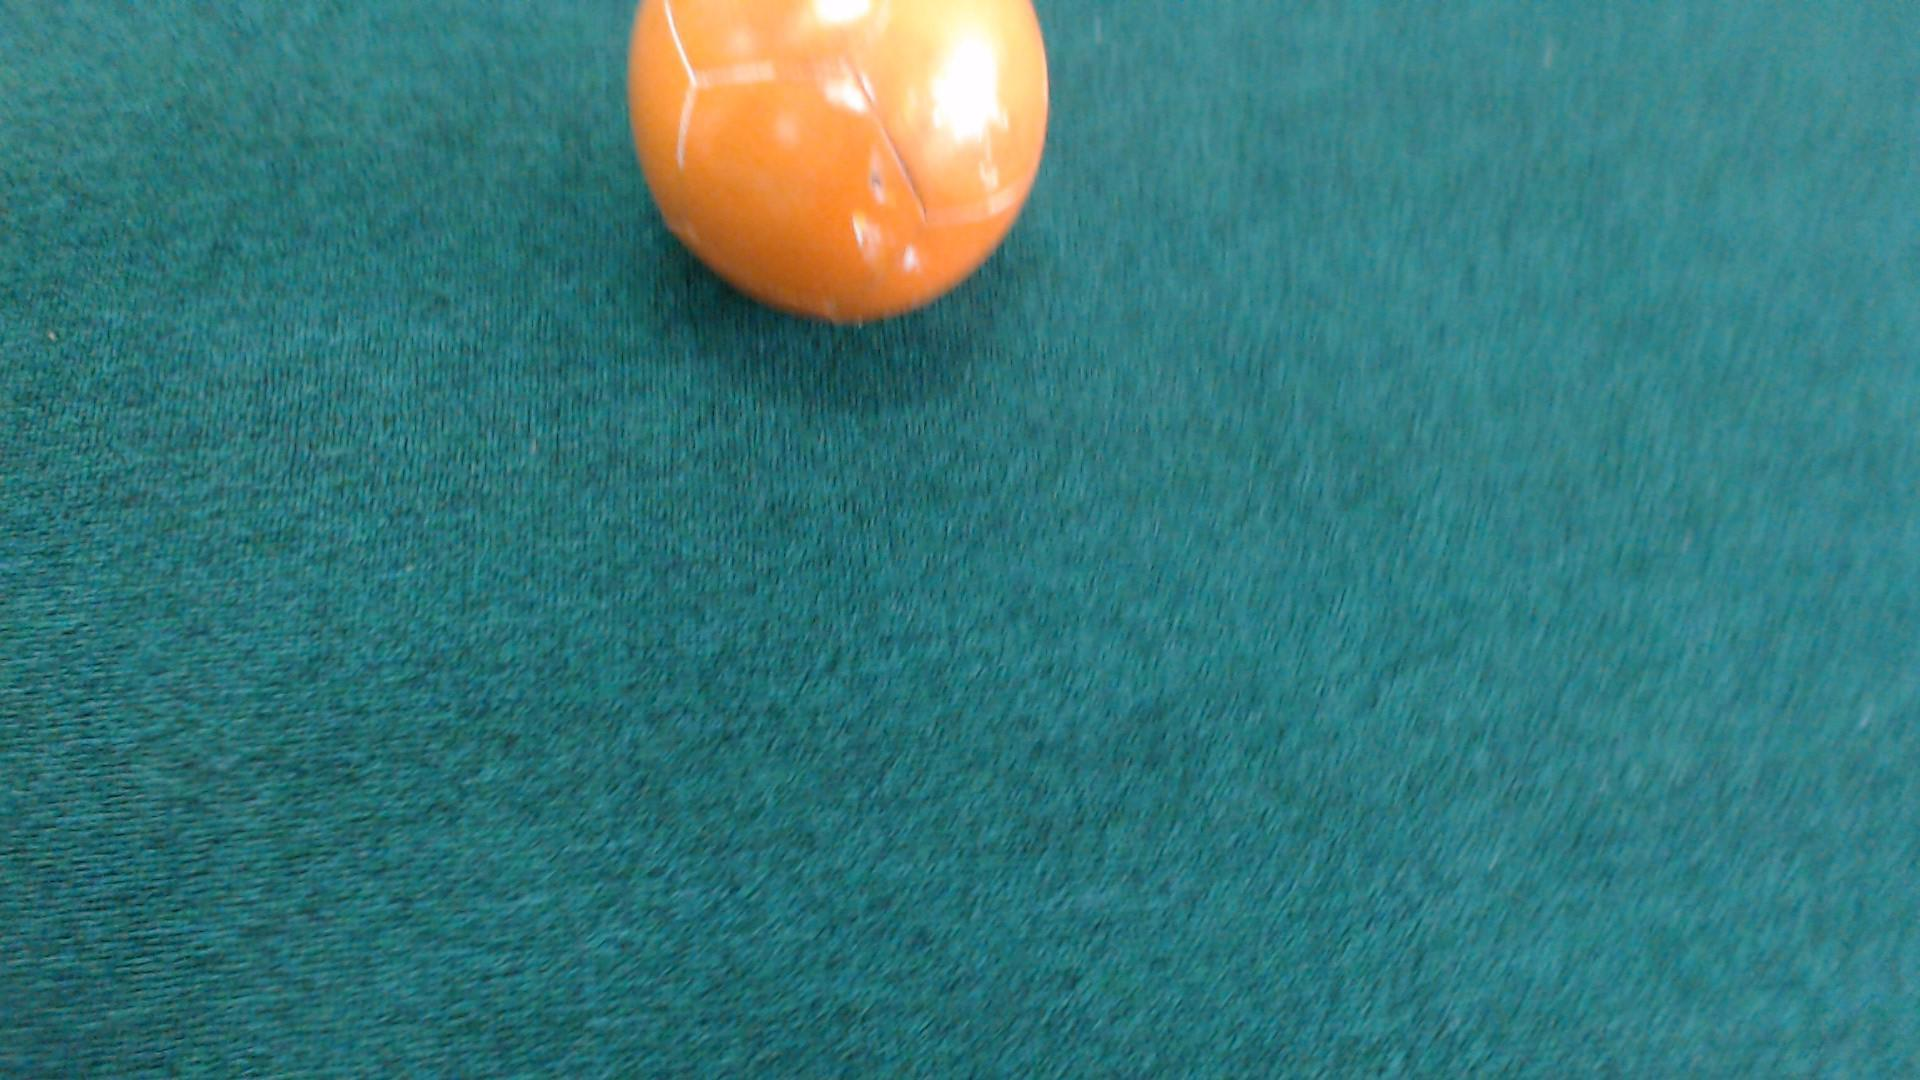bola: (608, 0, 1095, 360)
